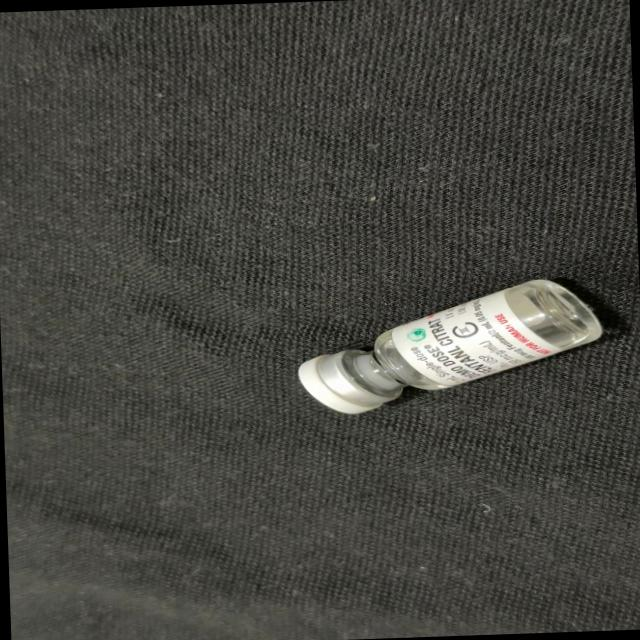fentanl_citrat: (300, 278, 602, 412)
